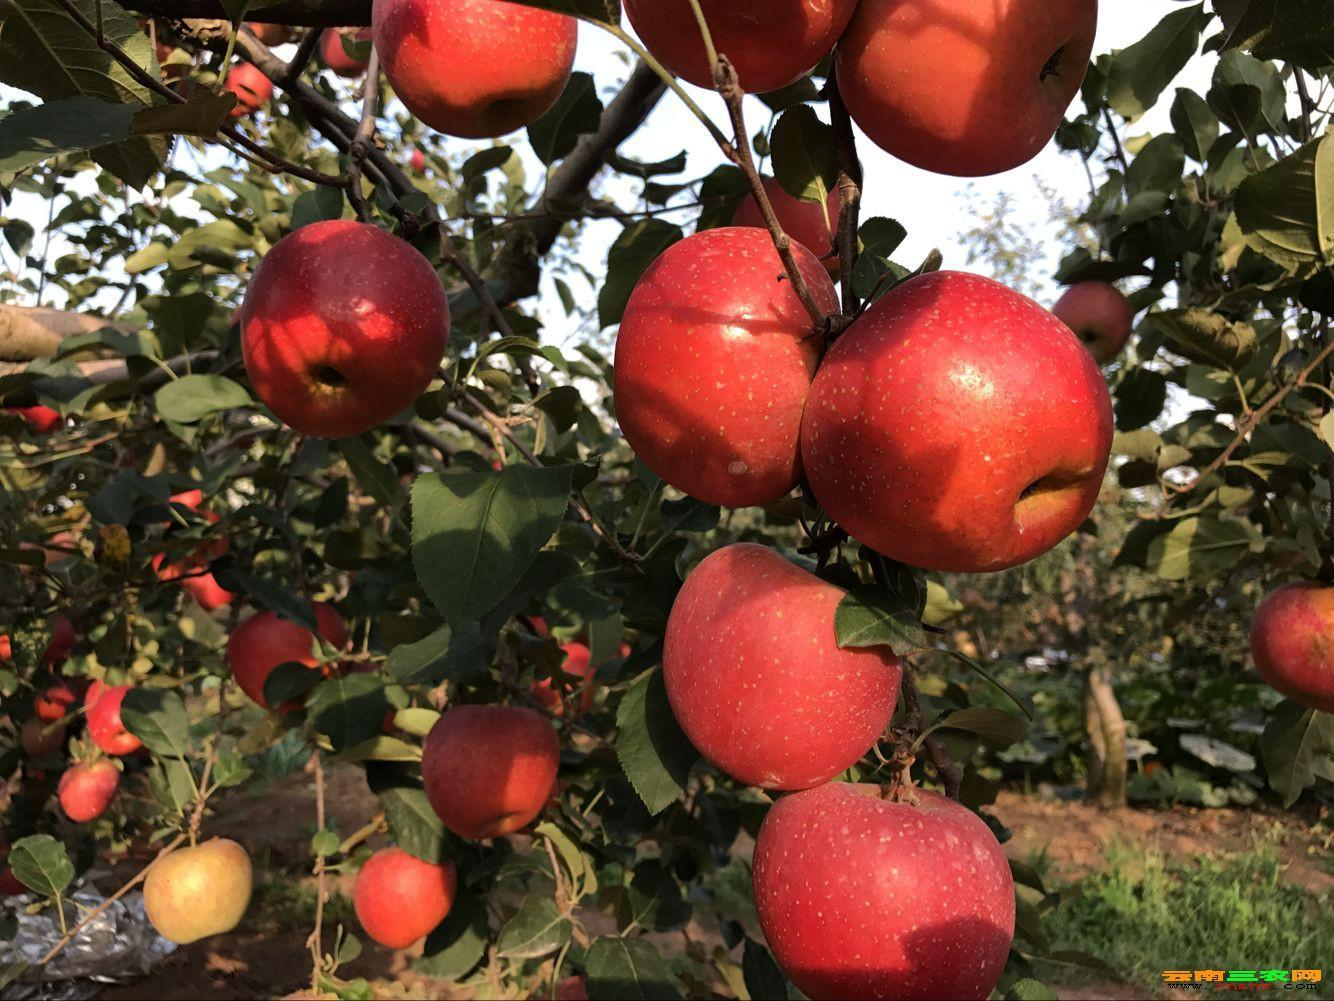apple: (799, 262, 1110, 580), (663, 538, 906, 793), (611, 227, 821, 511), (750, 776, 1017, 996), (237, 218, 454, 438), (843, 1, 1100, 177), (368, 1, 580, 136), (424, 699, 556, 831), (145, 837, 253, 944), (353, 847, 457, 951), (228, 608, 326, 713)
